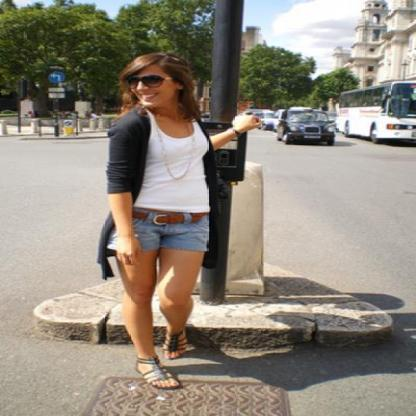jacket: (95, 108, 234, 269)
shirt: (137, 125, 209, 212)
shoe: (168, 332, 196, 357)
shorts: (127, 213, 208, 252)
sunglass: (123, 66, 163, 86)
